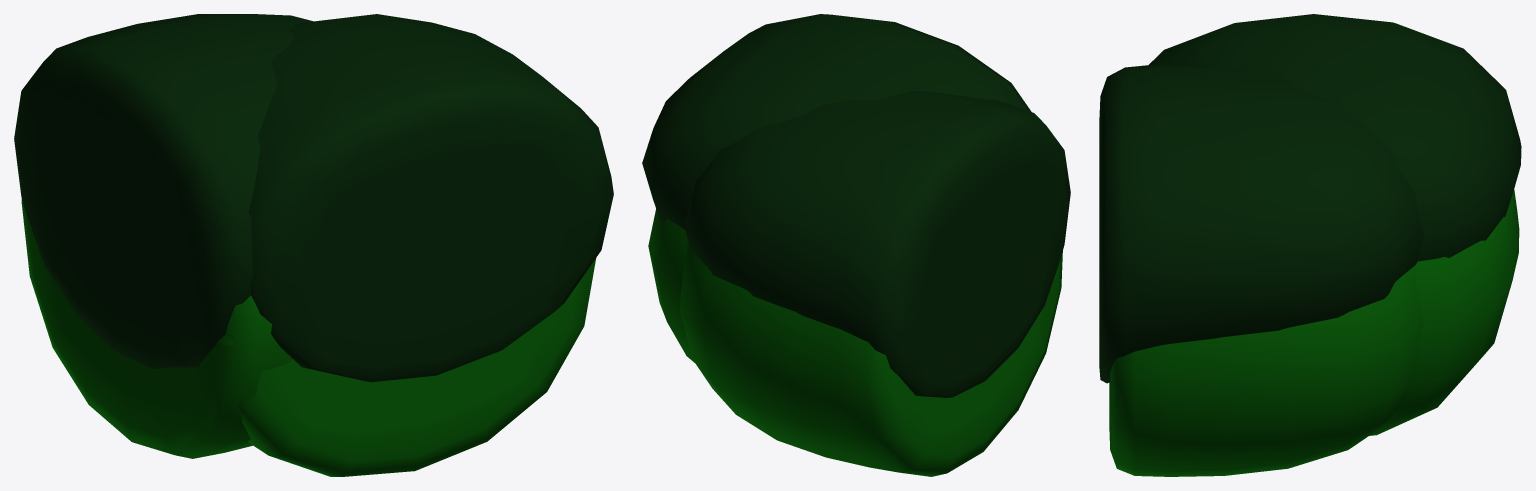
Rendered from worm_turn_body.obj.
3 renders of one model, left to right at view 1: azimuth 30°, elevation 25°; view 2: azimuth 150°, elevation 25°; view 3: azimuth 270°, elevation 25°, orthographic. The views are drawn at different scales.
Visible parts, largest first — view 1: Cube, Cube.009, Cube.007, Cube.008; view 2: Cube.009, Cube.008, Cube, Cube.007; view 3: Cube, Cube.007, Cube.009, Cube.008.
Part boxes in pixels (box(x1,y1,x2,y2)): Cube: box(248, 14, 613, 382); Cube.009: box(14, 14, 312, 369); Cube.007: box(216, 258, 596, 476); Cube.008: box(21, 199, 292, 458); Cube.009: box(685, 90, 1070, 397); Cube.008: box(679, 239, 1062, 476); Cube: box(642, 14, 1031, 229); Cube.007: box(648, 208, 694, 362); Cube: box(1099, 63, 1423, 383); Cube.007: box(1109, 265, 1423, 476); Cube.009: box(1148, 14, 1521, 261); Cube.008: box(1369, 189, 1519, 435).
Size of the model in its own units: 2.42 by 2.21 by 2.32.
